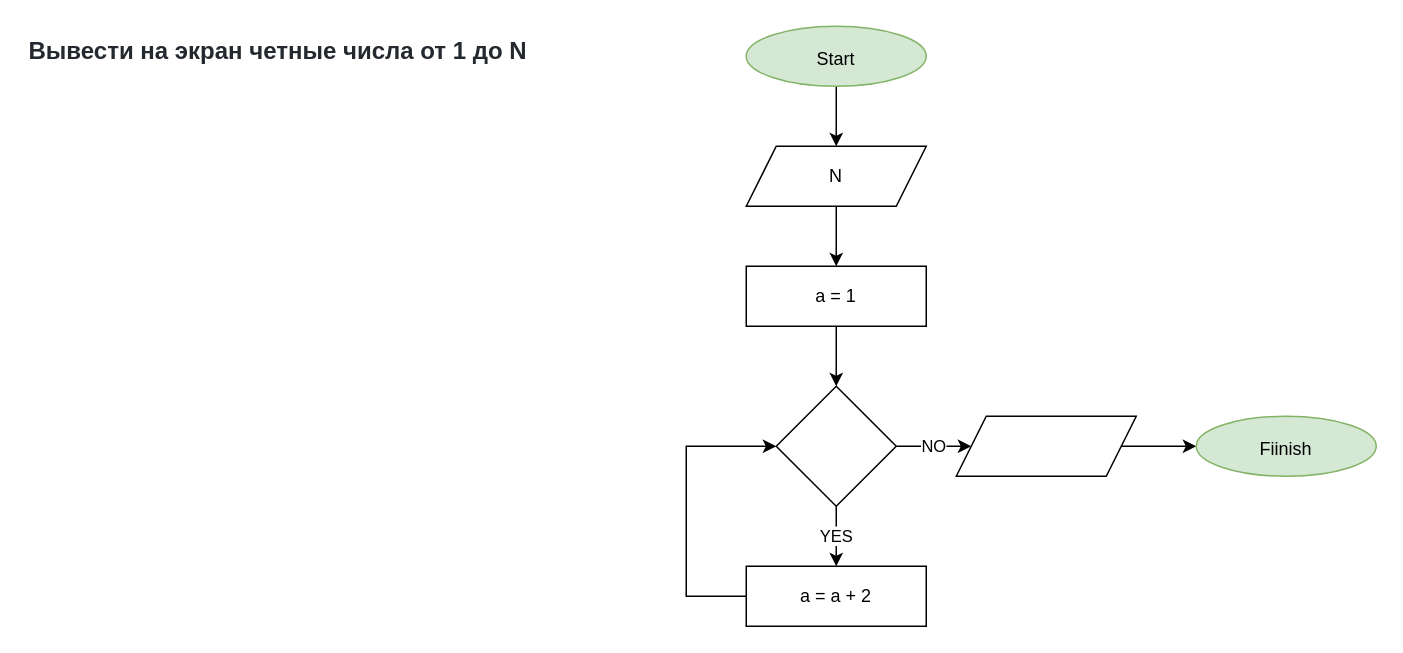
This 1403x653 diagram has some shape labels left out. The shapes that lost their labels are listed below. From the top down, each one's centre as x and y in pixels, then its label:
At point (835, 445): "a <= N ?".
At point (1045, 445): "ReadLine(a)".
